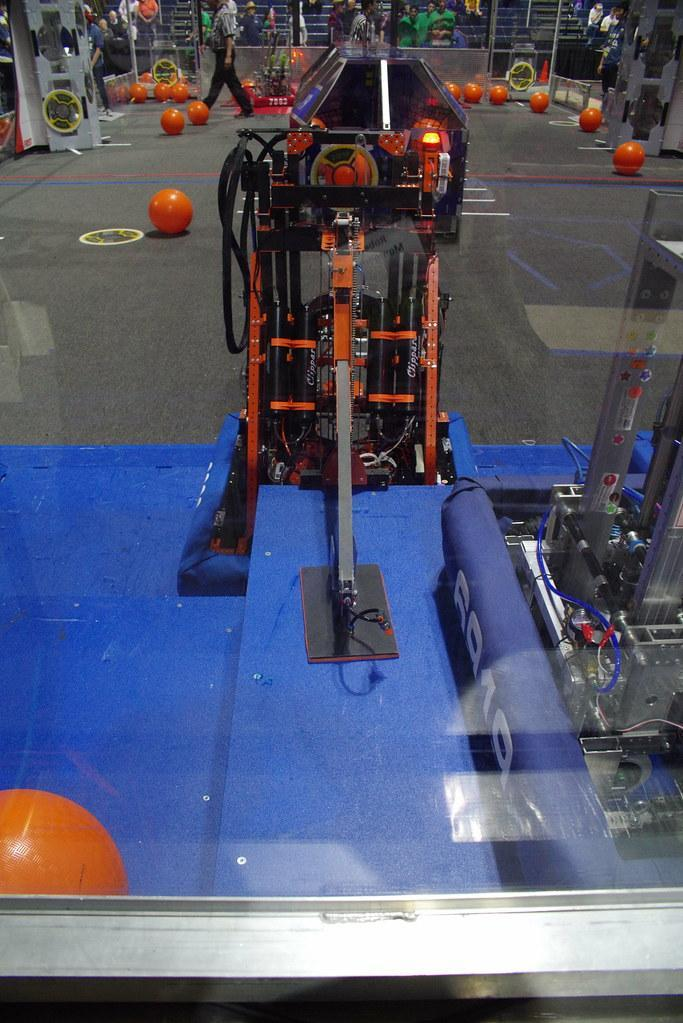robot: (174, 30, 488, 682), (436, 158, 683, 910), (222, 14, 328, 118)
